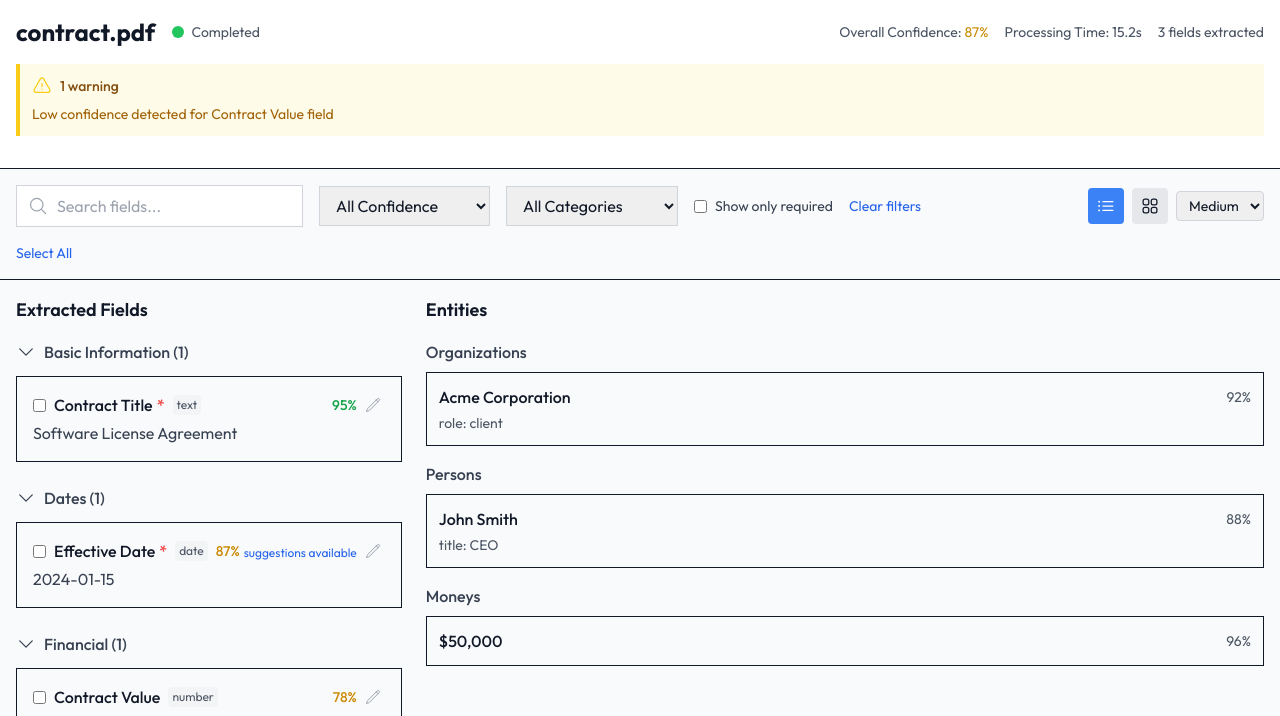
Scenario: ExtractionResultVisualization › Filtering and Search › should filter by field category
Select "Financial" in the dropdown named "filter by category" at (592, 206), box [506,186,678,226]
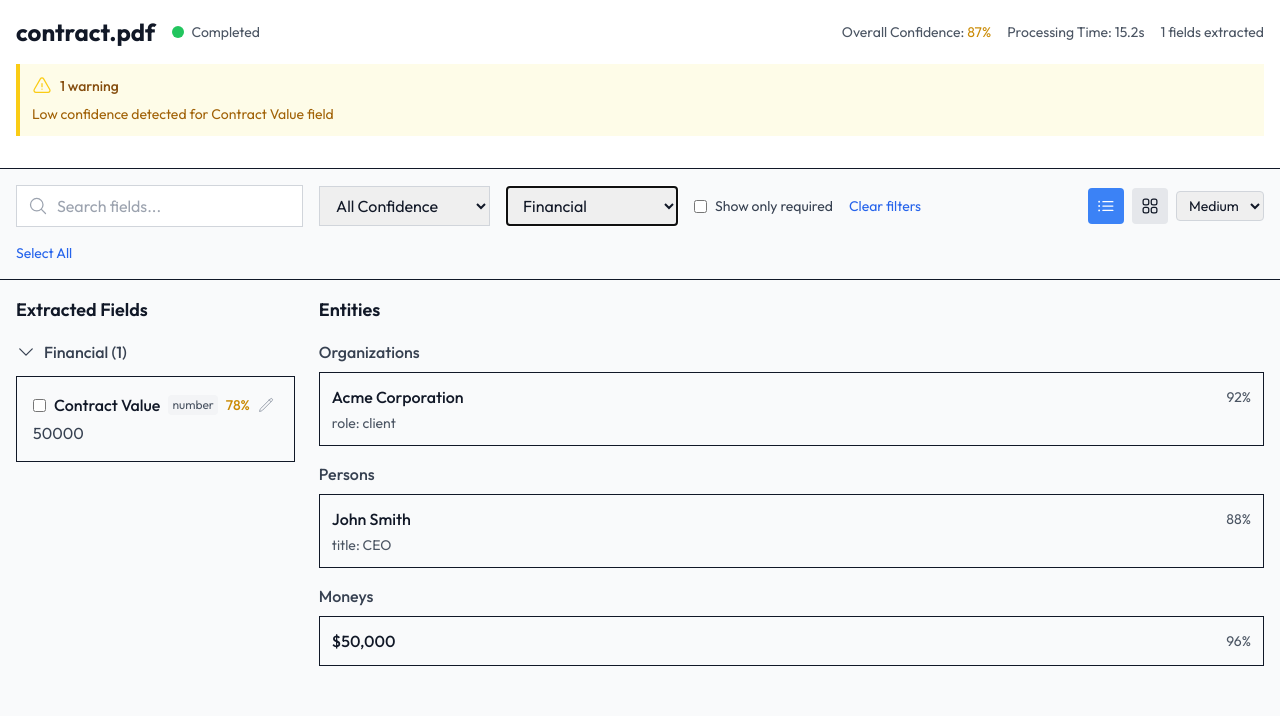
Expected: the text "Contract Value" is shown, [54,393,160,417]
Expected: the text "Contract Title" is gone
